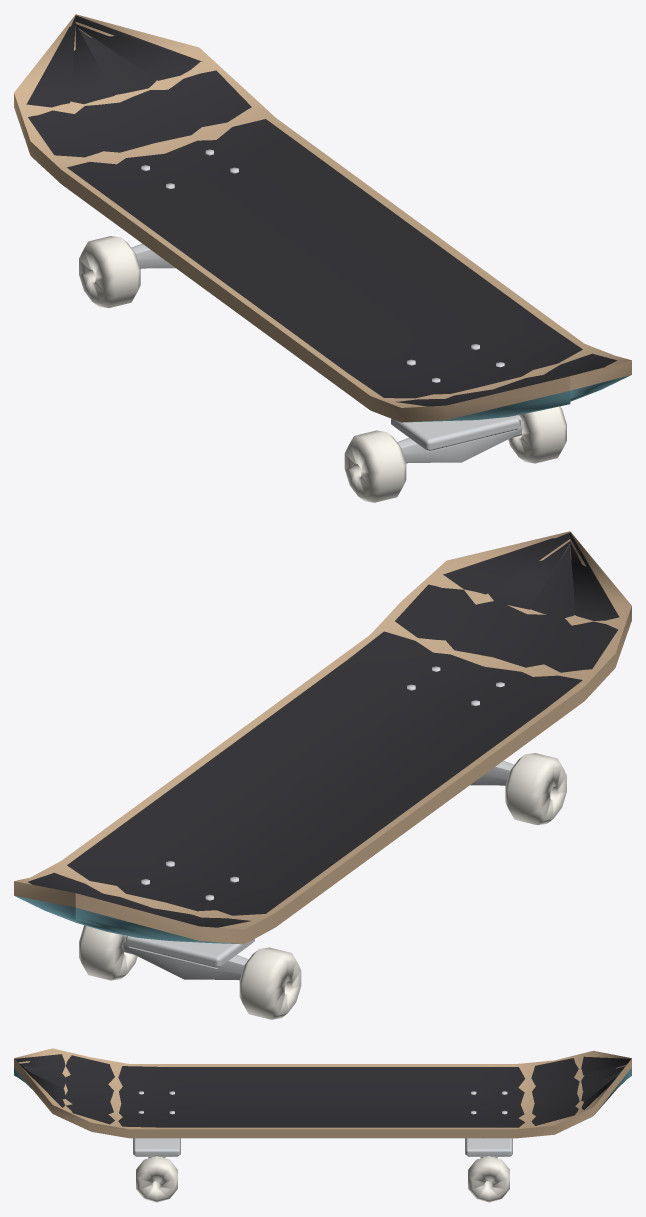
Rendered from hero-board.lod2.glb.
The picture shows the model from 3 angles, top to bottom: view 1: azimuth 30°, elevation 25°; view 2: azimuth 150°, elevation 25°; view 3: azimuth 270°, elevation 25°; orthographic projection. The views are drawn at different scales.
Parts seen in each view (by area): view 1: GripTape, Deck, Truck_F, Wheel_FL, Wheel_RL, Wheel_FR; view 2: GripTape, Deck, Truck_R, Wheel_RL, Wheel_FL, Wheel_RR; view 3: GripTape, Deck, Wheel_FR, Wheel_RR, Truck_F, Truck_R.
Part boxes in pixels (bbox=[...]): GripTape: bbox=[26, 15, 617, 406]; Deck: bbox=[14, 14, 631, 422]; Truck_F: bbox=[391, 415, 522, 463]; Wheel_FL: bbox=[344, 430, 406, 502]; Wheel_RL: bbox=[79, 236, 140, 308]; Wheel_FR: bbox=[508, 406, 566, 463]; GripTape: bbox=[28, 532, 619, 927]; Deck: bbox=[14, 531, 631, 944]; Truck_R: bbox=[123, 935, 254, 980]; Wheel_RL: bbox=[239, 947, 301, 1019]; Wheel_FL: bbox=[505, 753, 566, 825]; Wheel_RR: bbox=[79, 925, 137, 980]; GripTape: bbox=[15, 1054, 630, 1127]; Deck: bbox=[14, 1048, 631, 1138]; Wheel_FR: bbox=[136, 1156, 177, 1202]; Wheel_RR: bbox=[468, 1156, 509, 1202]; Truck_F: bbox=[133, 1138, 180, 1181]; Truck_R: bbox=[465, 1138, 512, 1181].
Size of the model in its own units: 0.2 by 0.1665 by 0.8.
